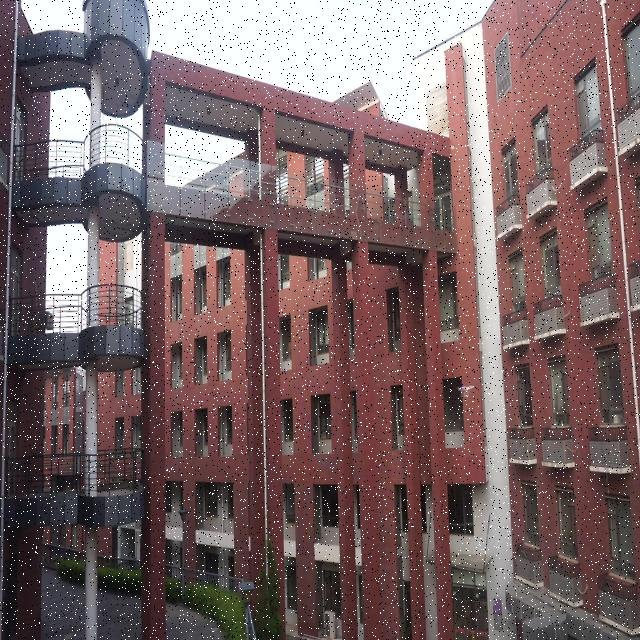UAV: (455, 385, 474, 398)
